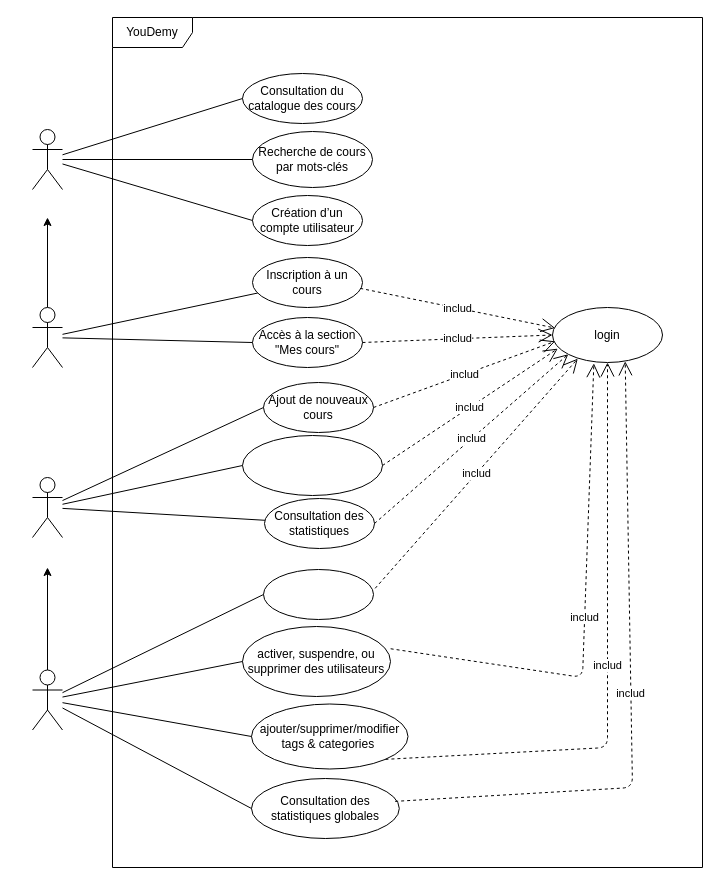
This 720x885 diagram has some shape labels left out. Each missing label, with the centre of its shape:
Admin: [47,699]
Enseignant: [47,507]
Etudiant: [47,337]
modifier, supprimer et consulter les inscriptions de mes cours: [312,465]
Validation des comptes enseignants: [318,594]
visiteur: [47,159]
